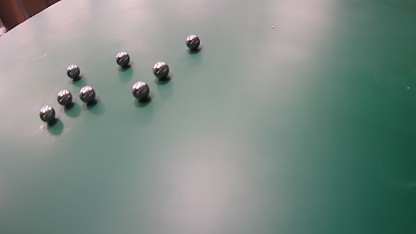ironball: (131, 80, 149, 100), (152, 61, 169, 78), (39, 104, 55, 122), (79, 85, 95, 103), (57, 89, 73, 106), (185, 34, 200, 49), (116, 51, 130, 66), (66, 64, 80, 78)
